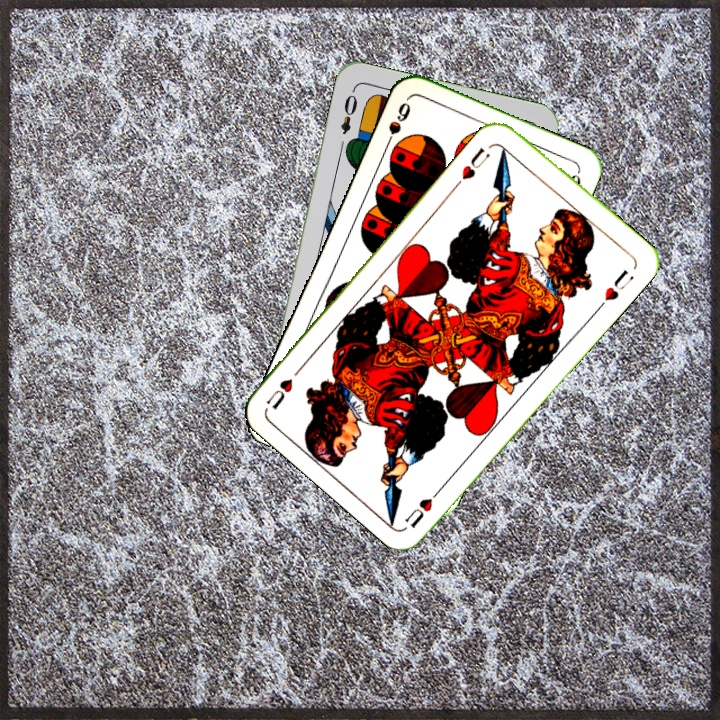EO: (336, 90, 360, 137)
HU: (400, 481, 447, 531), (457, 143, 493, 183)
S9: (380, 98, 413, 152)
